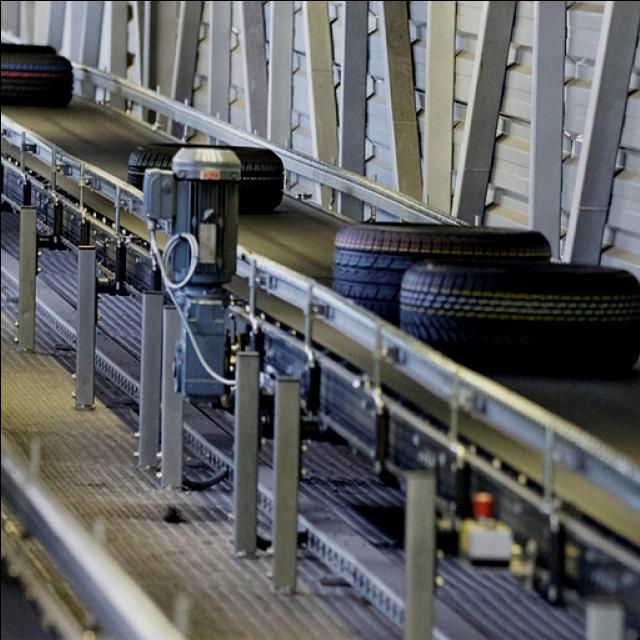conveyor: (0, 30, 640, 483)
